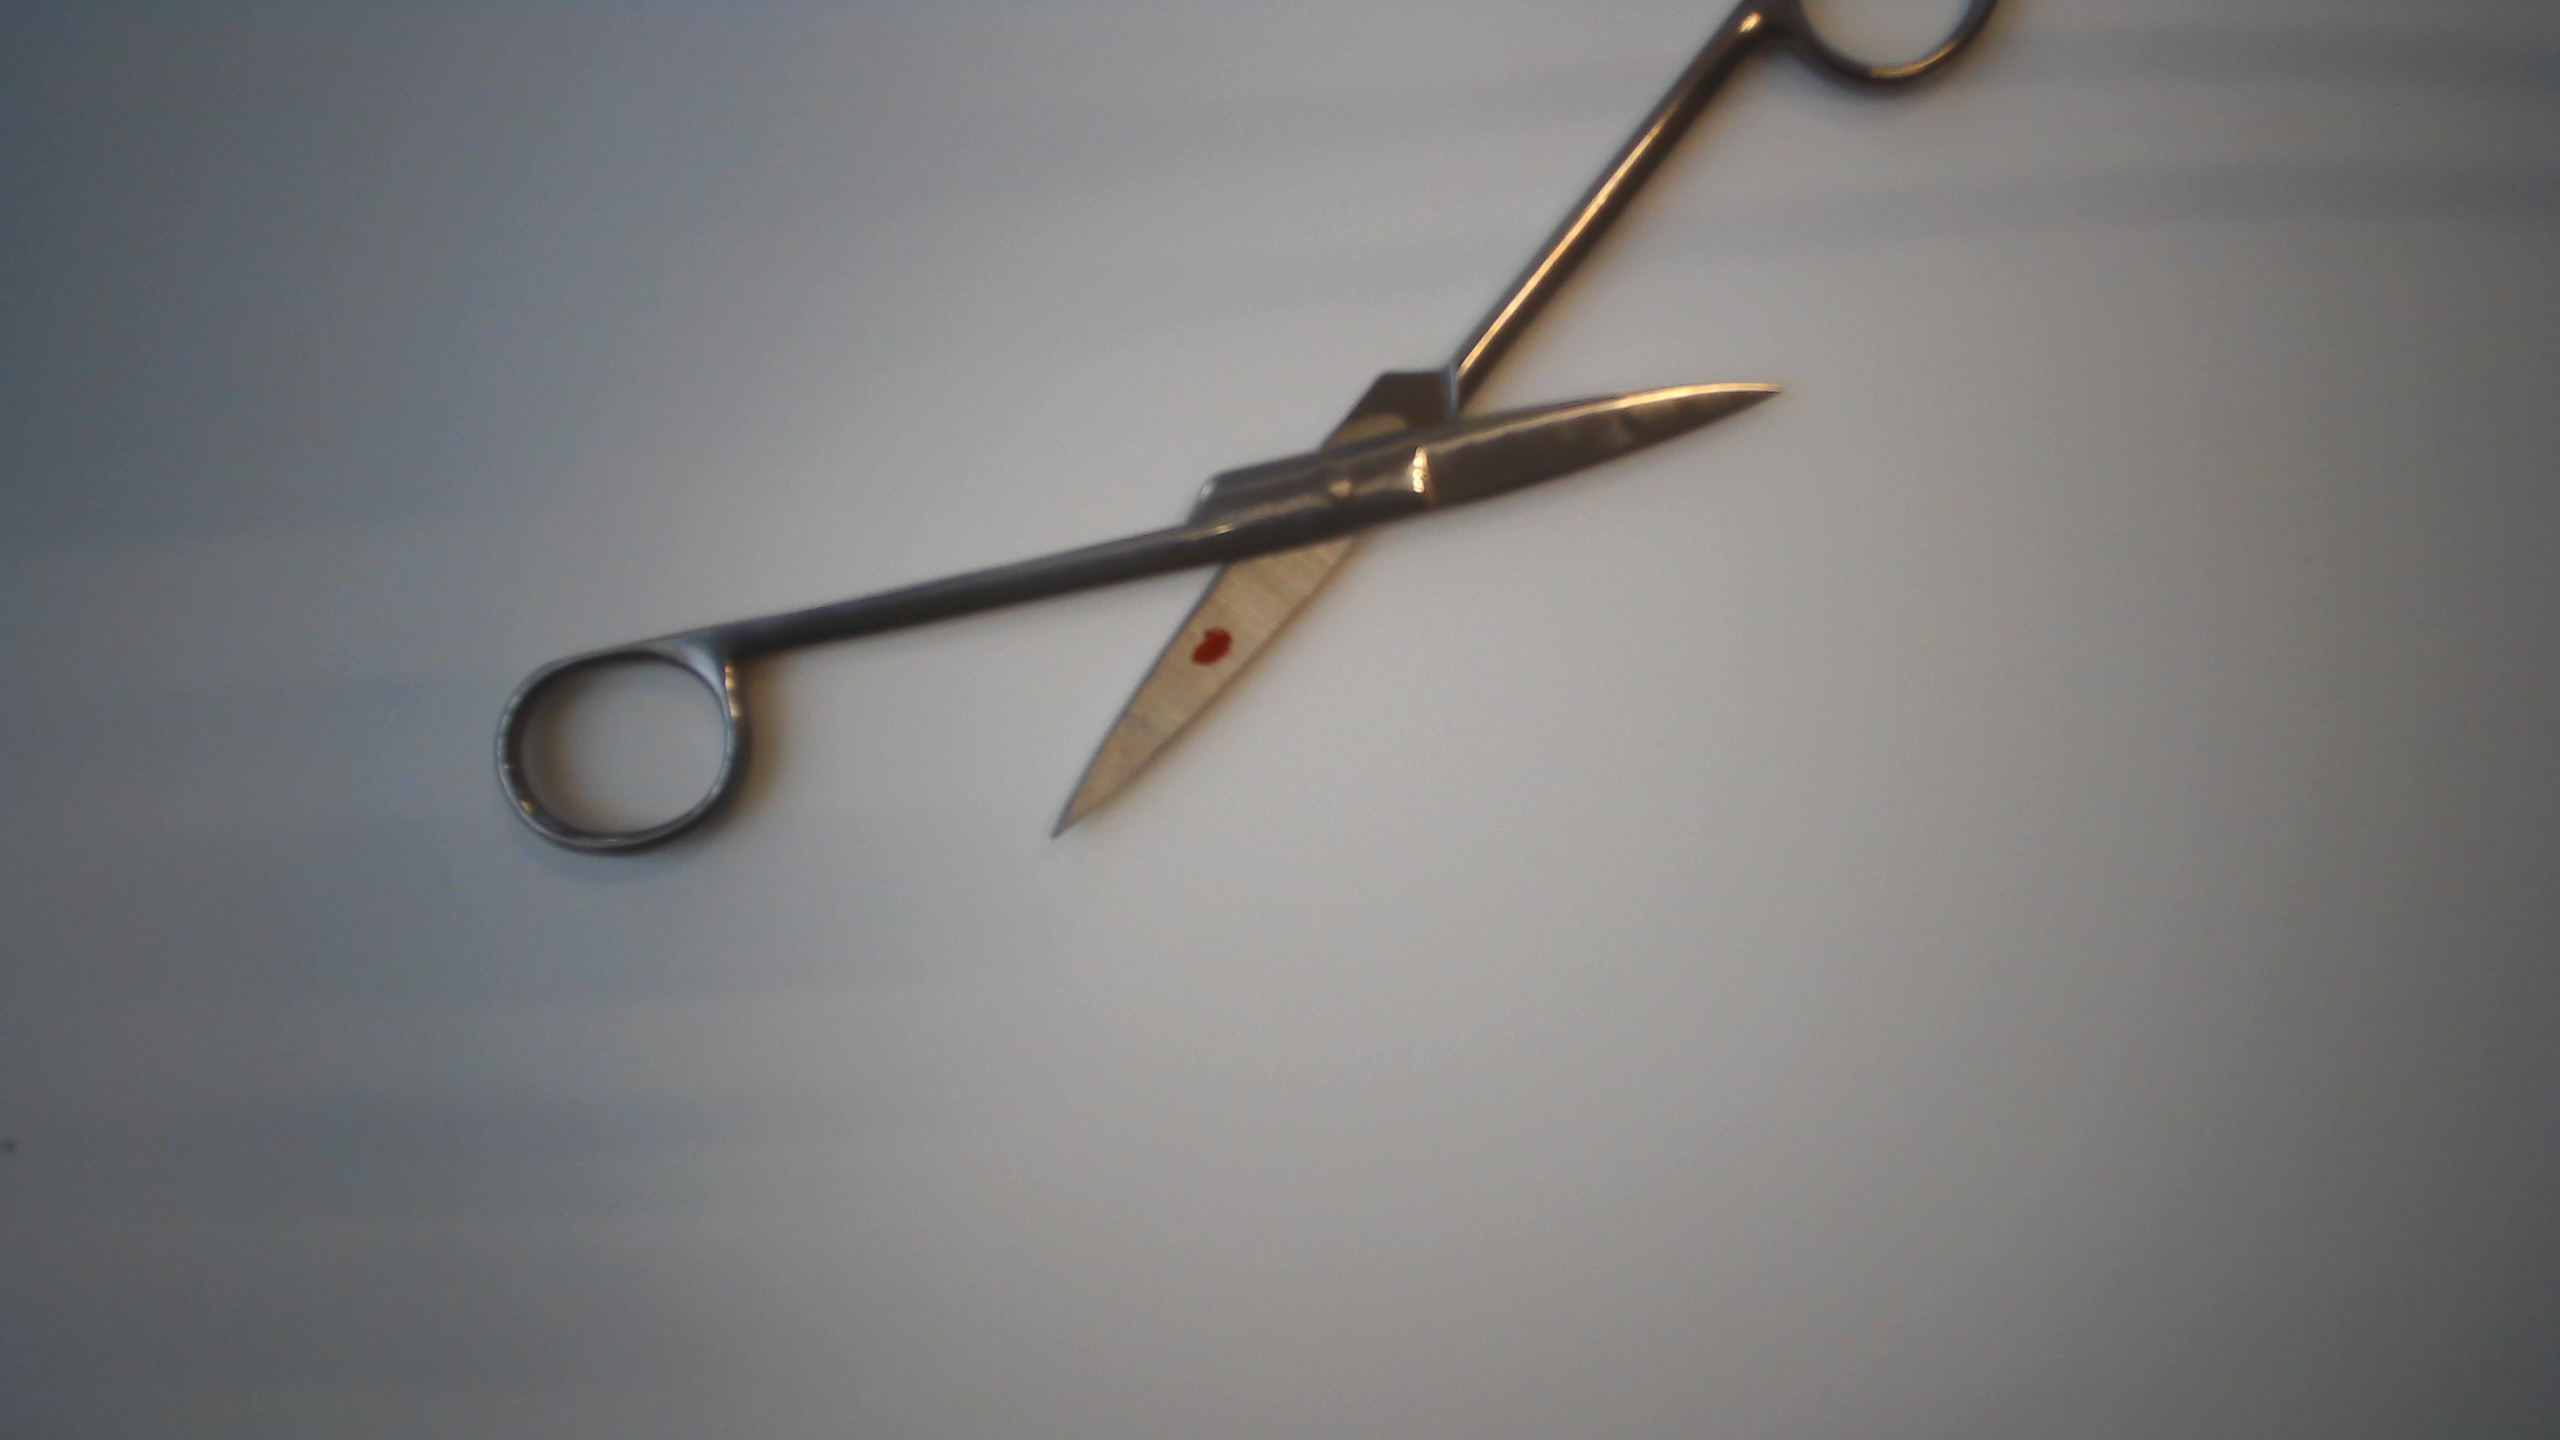Stain: (1183, 615, 1238, 672)
